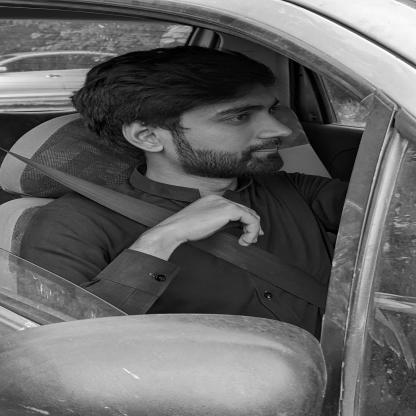seatbelt: (95, 59, 335, 300)
